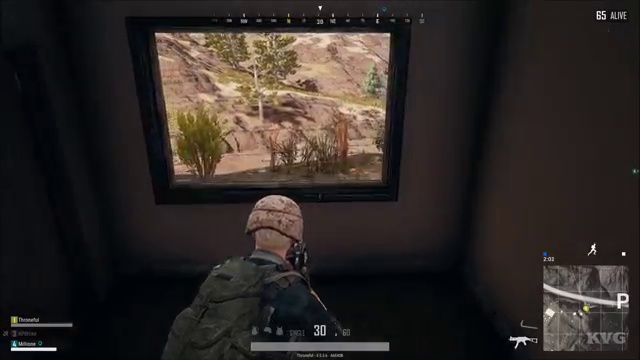Player: (169, 196, 357, 315)
